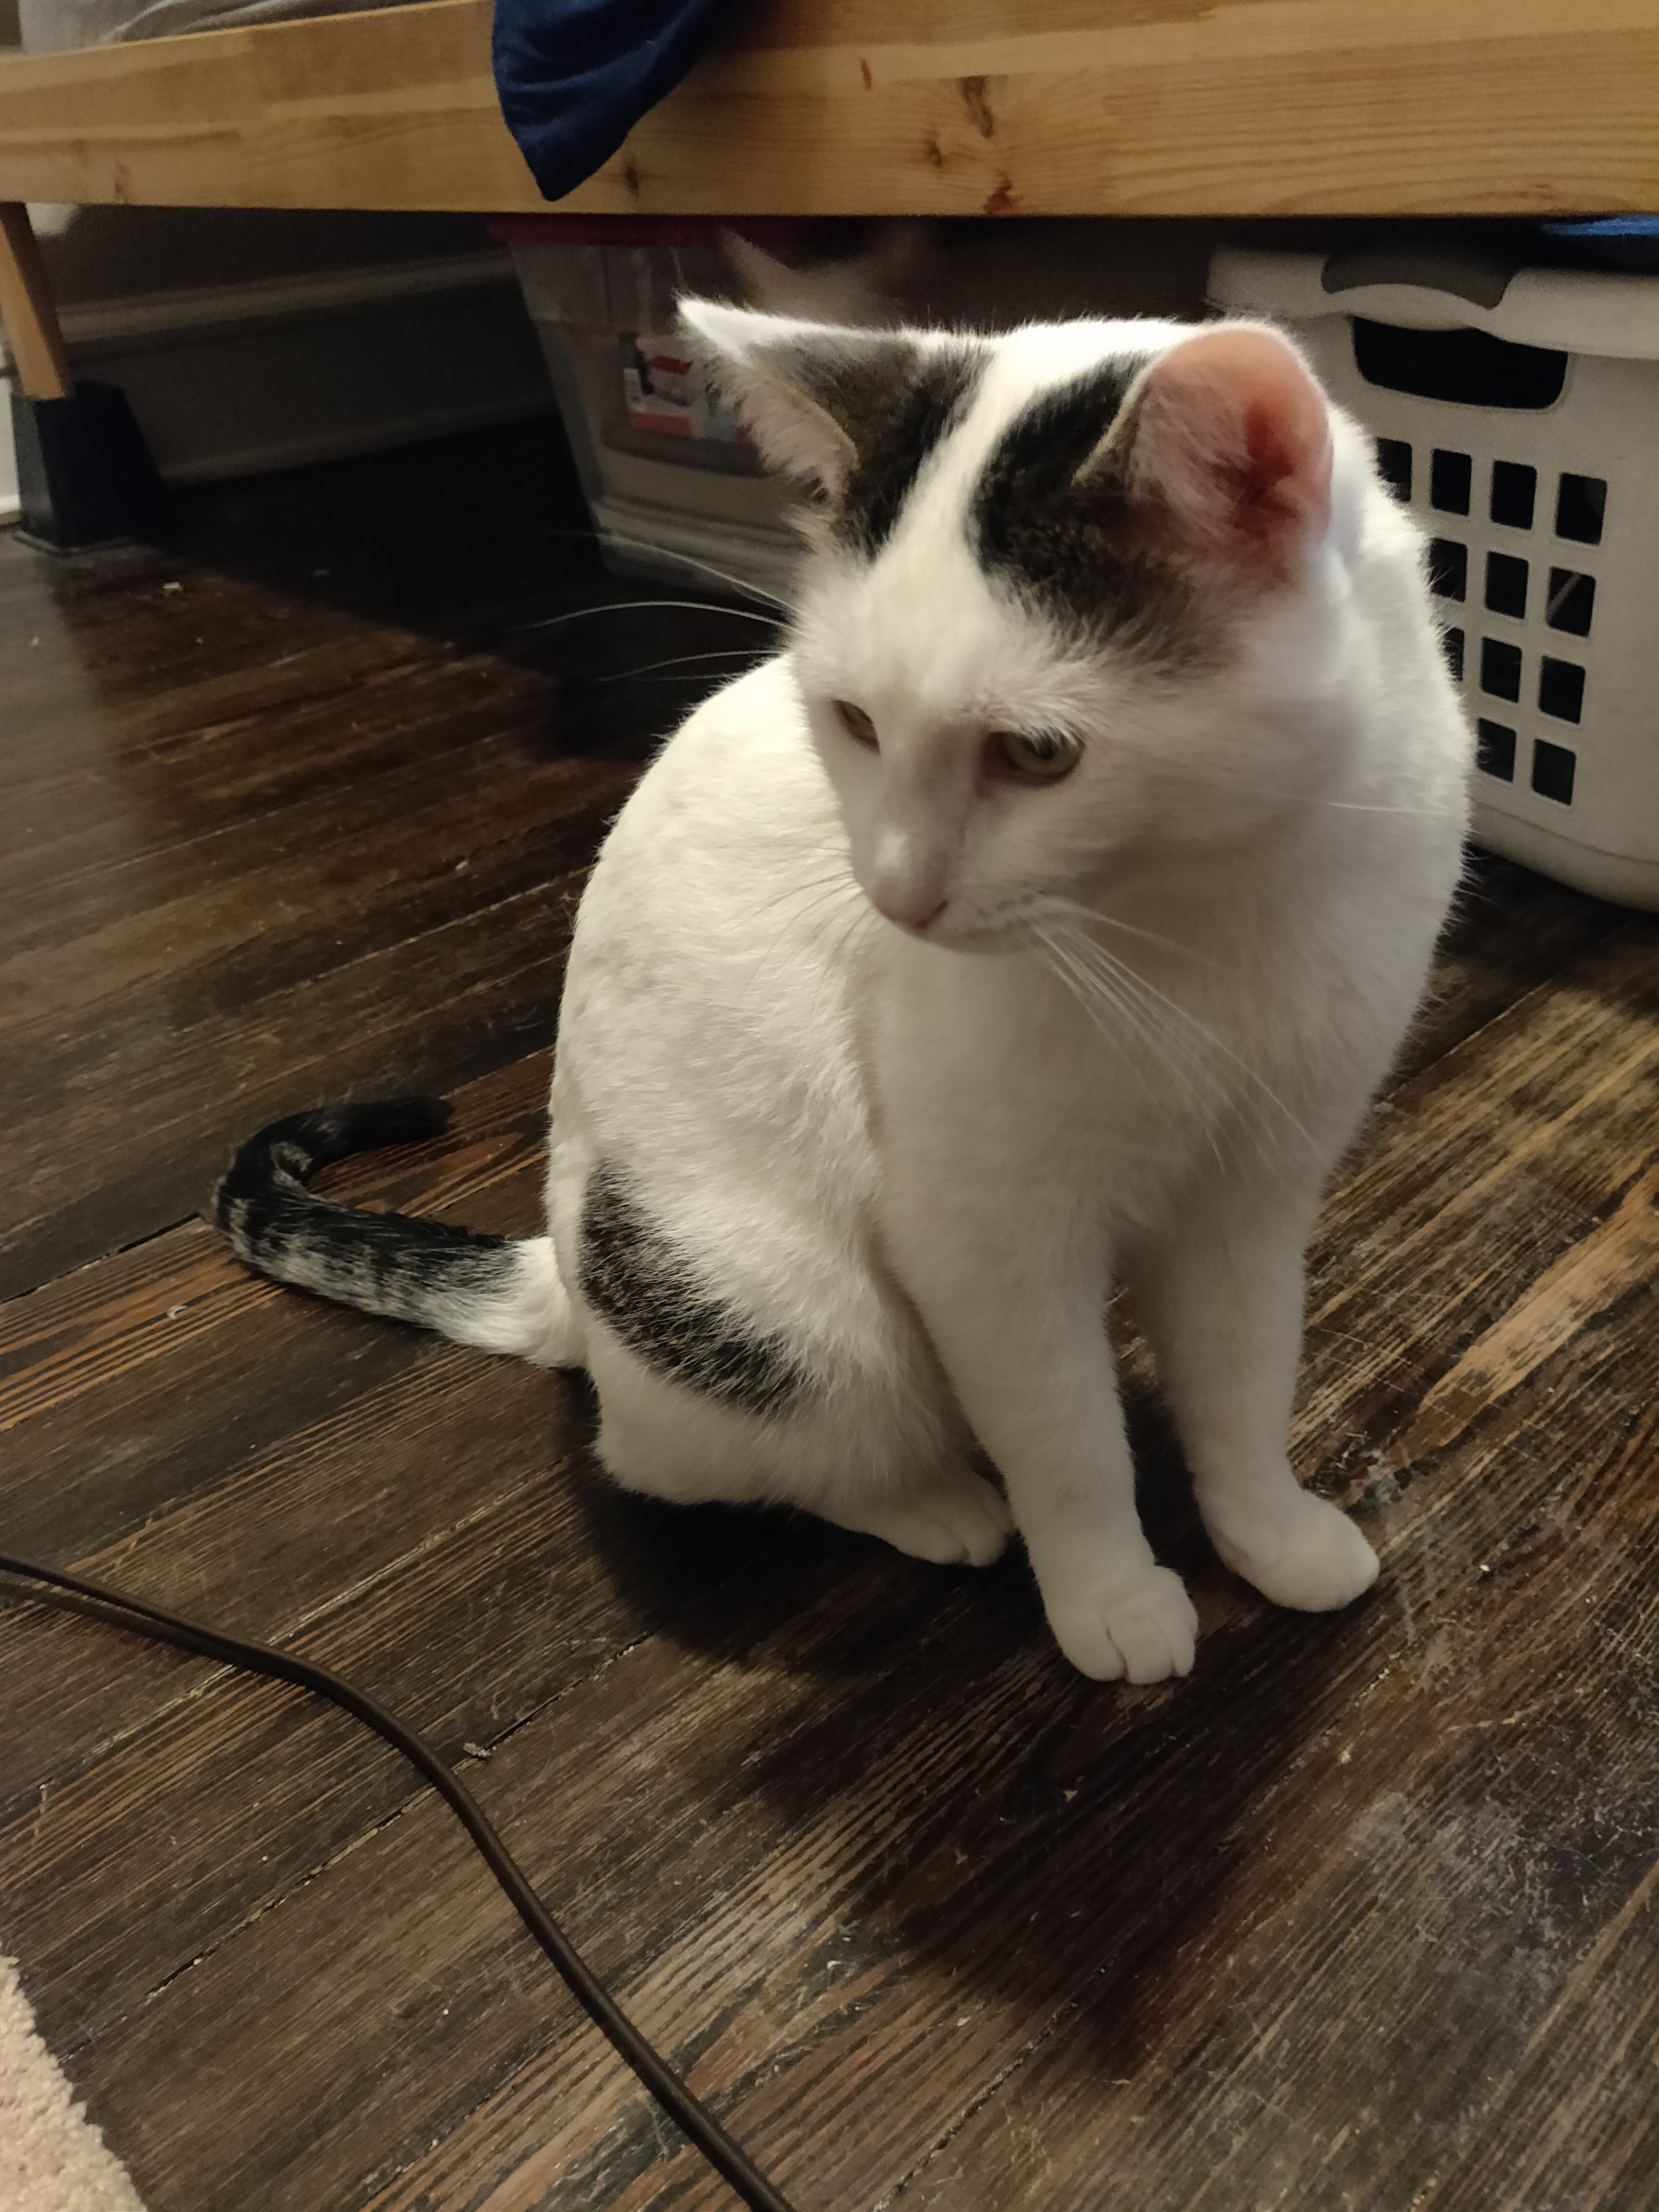cat: (335, 263, 1503, 1668)
